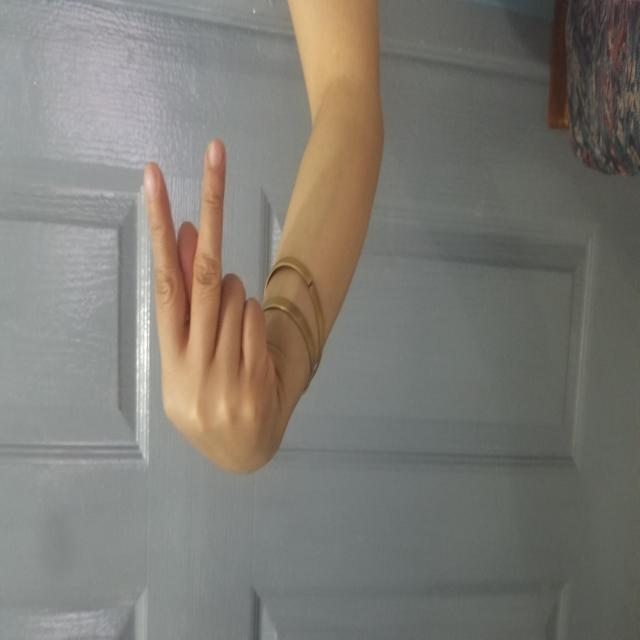K: (163, 143, 503, 283)
